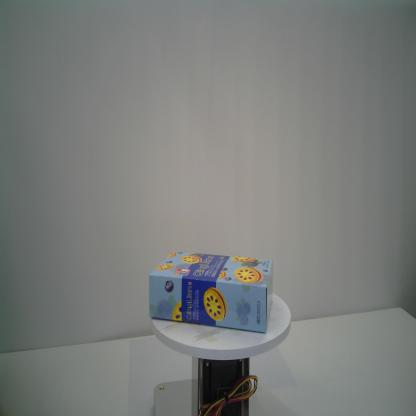Dessert: (148, 249, 274, 334)
